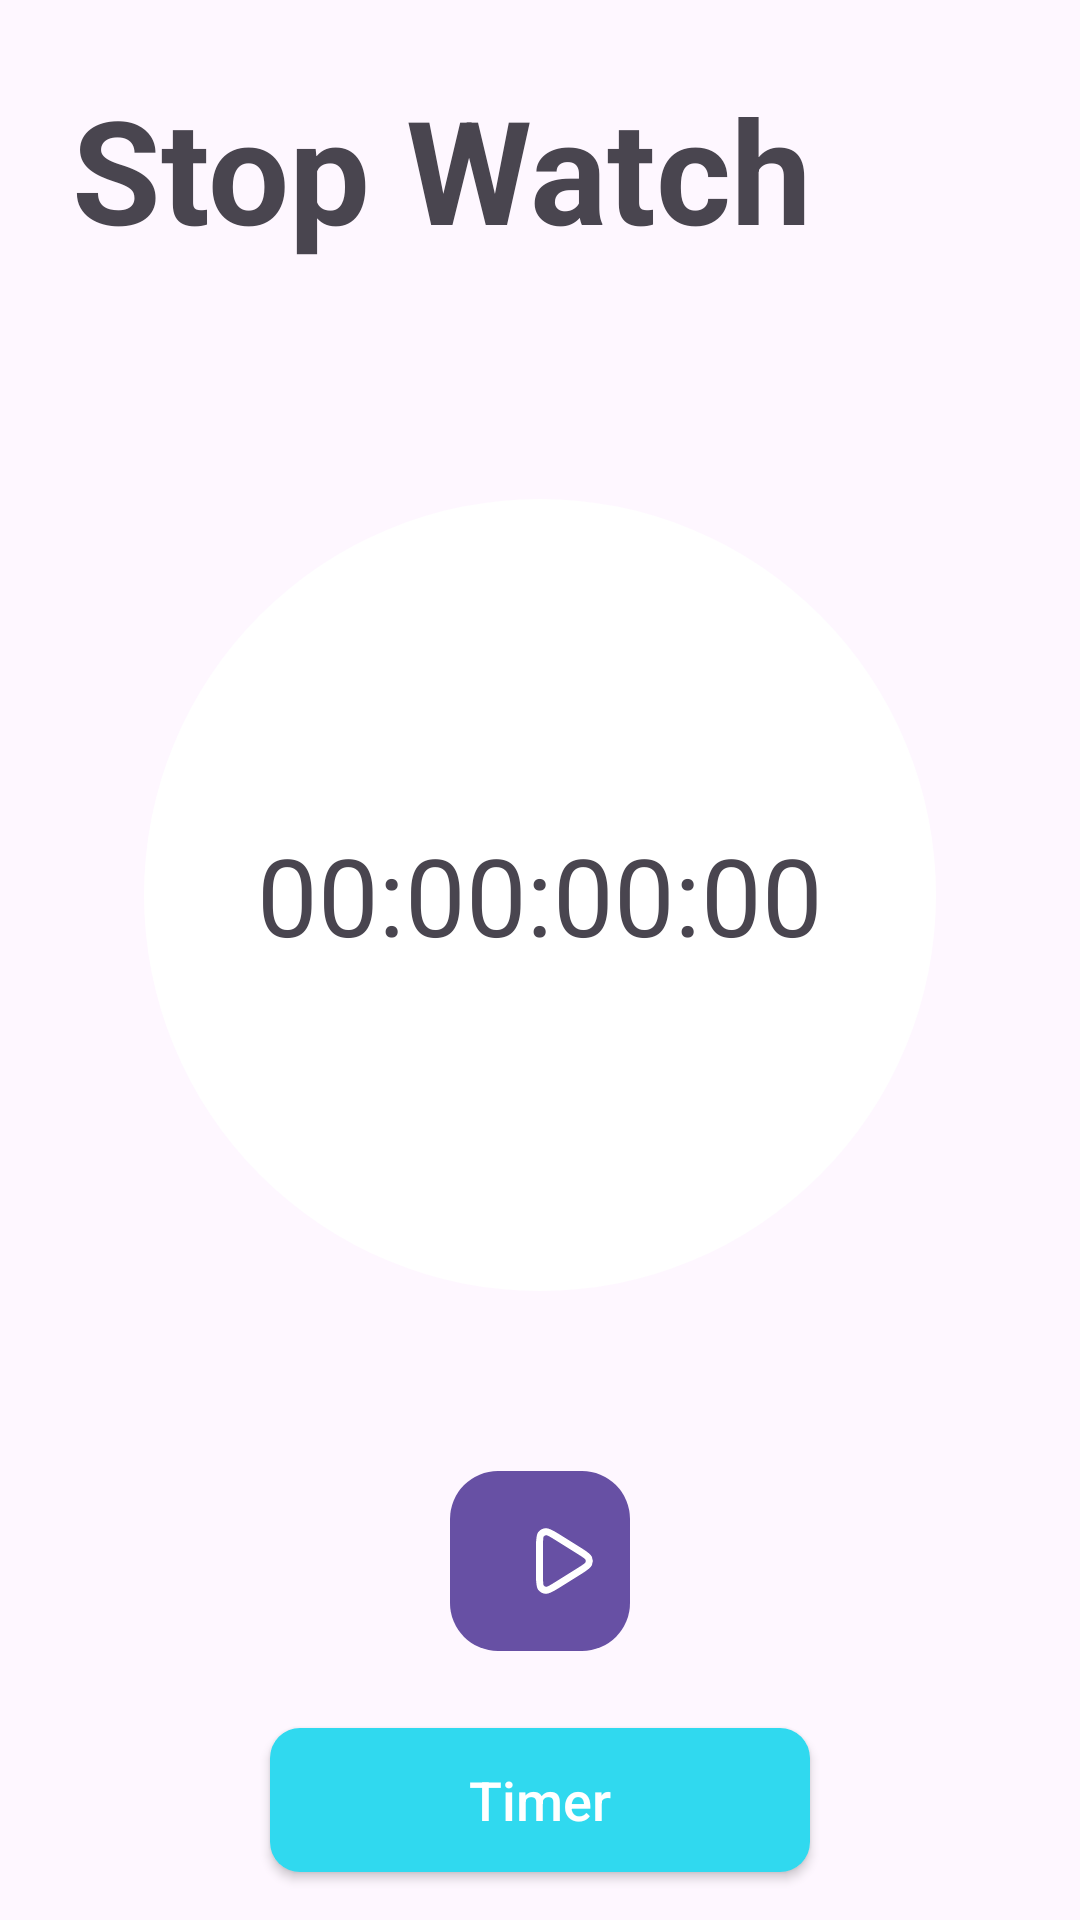

Screen size 1080×1920. Icon name, then its center in pixels as point (x, y):
play: point (540, 1561)
